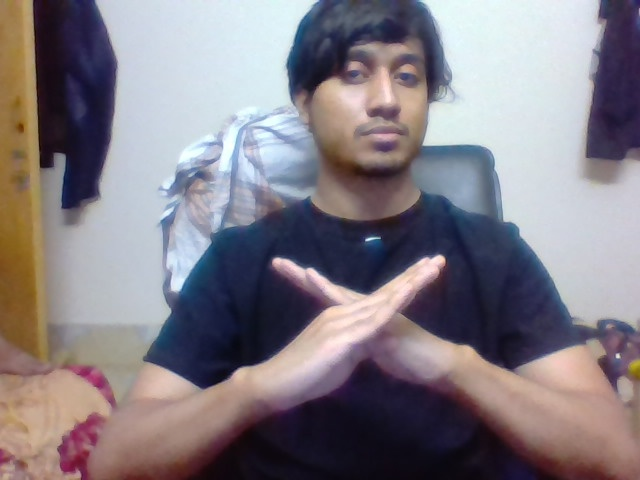X: (250, 245, 481, 399)
